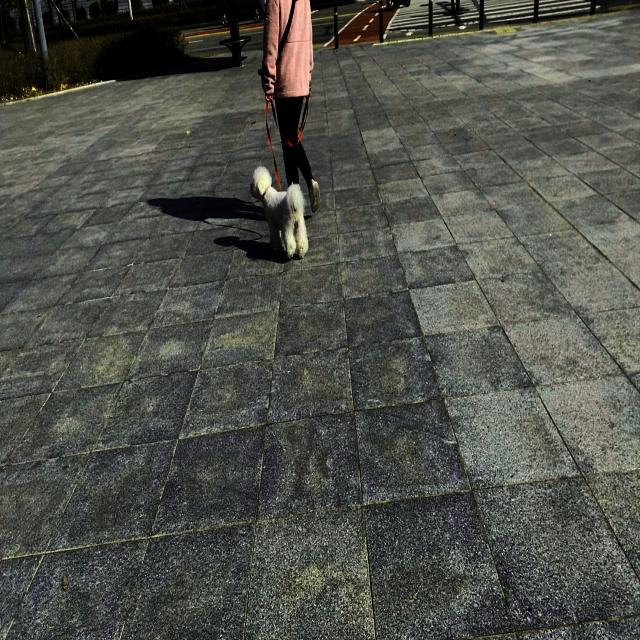Leashed_Dog: (249, 70, 309, 262)
